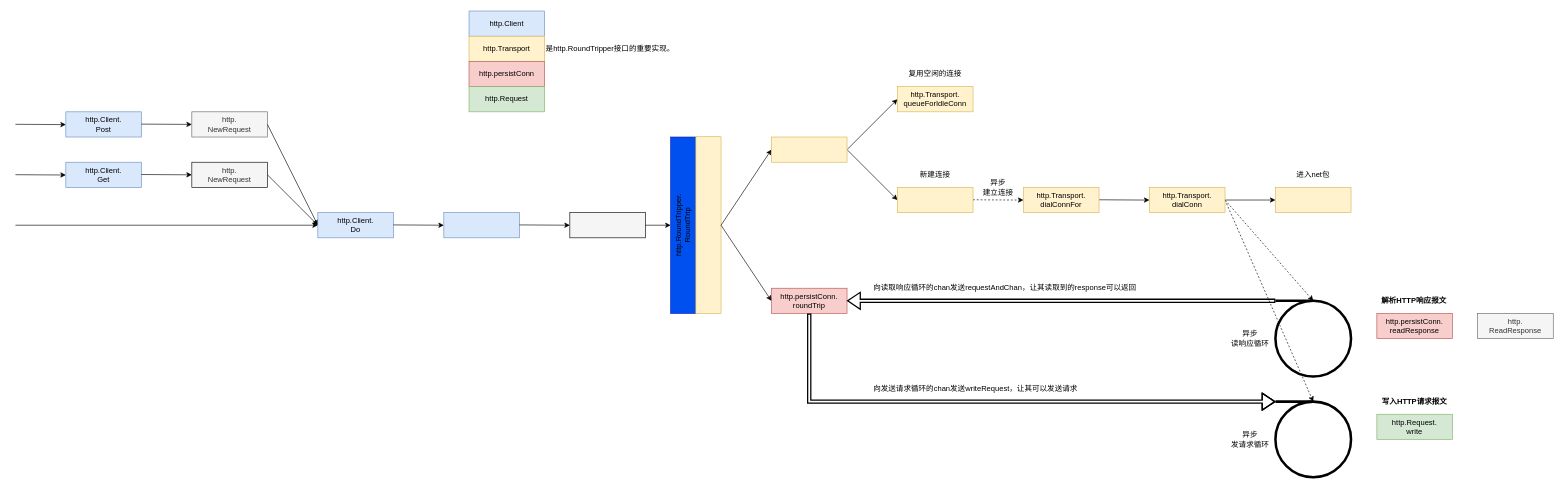
The diagram is 1564 pixels wide and 490 high, and some of its shapes have lost their labels. The centre of each missing label's shape, as x and y in pixels:
"http. send" goes at pixel 607 225.
"http.Client. send" goes at pixel 481 225.
"http.persistConn. readLoop" goes at pixel 1313 338.
"http.persistConn. writeLoop" goes at pixel 1313 439.
"http.Transport. dial" goes at pixel 1313 200.
"http.Transport. getConn" goes at pixel 809 149.
"http.Transport. queueForDial" goes at pixel 935 200.
"http.Transport. RoundTrip" goes at pixel 708 224.
